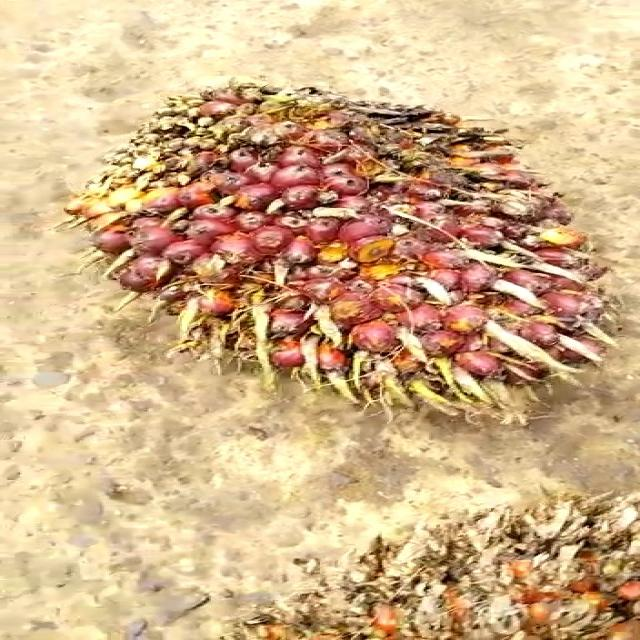palm oil: (89, 70, 616, 450)
